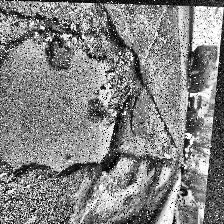pothole: (0, 13, 140, 181)
